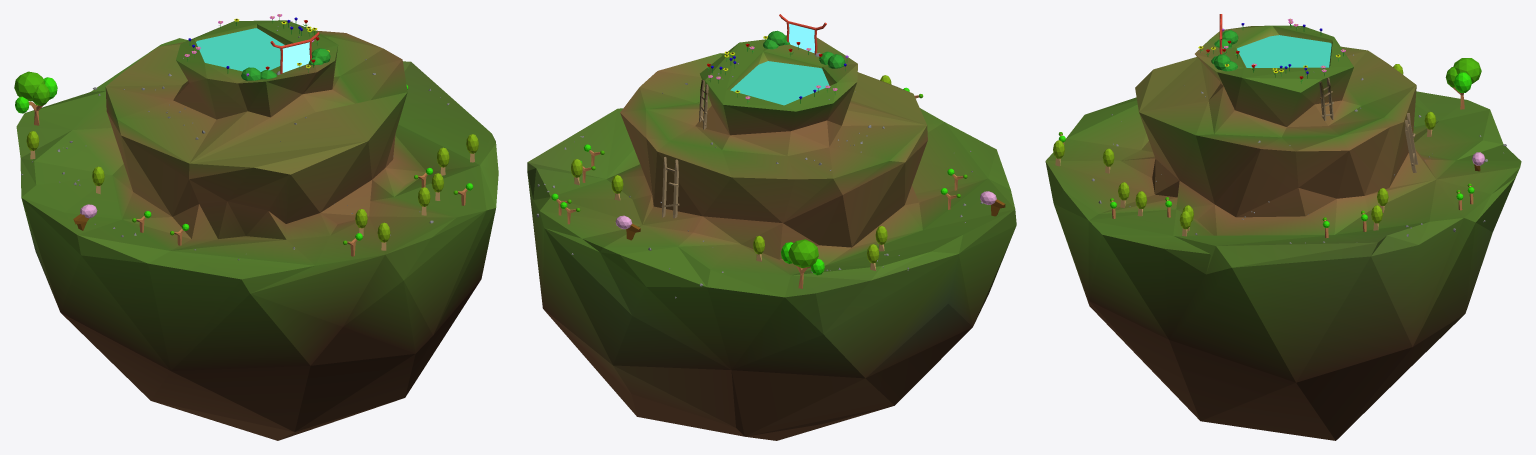
The picture shows the model from 3 angles, left to right: view 1: azimuth 30°, elevation 25°; view 2: azimuth 150°, elevation 25°; view 3: azimuth 270°, elevation 25°; orthographic projection. The views are drawn at different scales.
Parts seen in each view (by area): view 1: Island.010, Water.010, Tree1 - 2.052, Magical Portal.010; view 2: Island.010, Water.010, Tree1 - 2.052, Bottom Ladder.010, Magical Portal.010; view 3: Island.010, Water.010, Tree1 - 2.052.
Part boxes in pixels (x1=…): Island.010: x1=16, y1=20, x2=498, y2=440; Water.010: x1=196, y1=28, x2=284, y2=71; Tree1 - 2.052: x1=14, y1=71, x2=57, y2=125; Magical Portal.010: x1=282, y1=42, x2=309, y2=72; Island.010: x1=527, y1=37, x2=1016, y2=440; Water.010: x1=730, y1=61, x2=829, y2=105; Tree1 - 2.052: x1=781, y1=239, x2=824, y2=288; Bottom Ladder.010: x1=661, y1=157, x2=679, y2=218; Magical Portal.010: x1=789, y1=23, x2=814, y2=53; Island.010: x1=1045, y1=25, x2=1521, y2=440; Water.010: x1=1237, y1=35, x2=1331, y2=67; Tree1 - 2.052: x1=1445, y1=58, x2=1481, y2=109.
Bounding box in the file's own units: 41.96 × 39.87 × 43.73.
